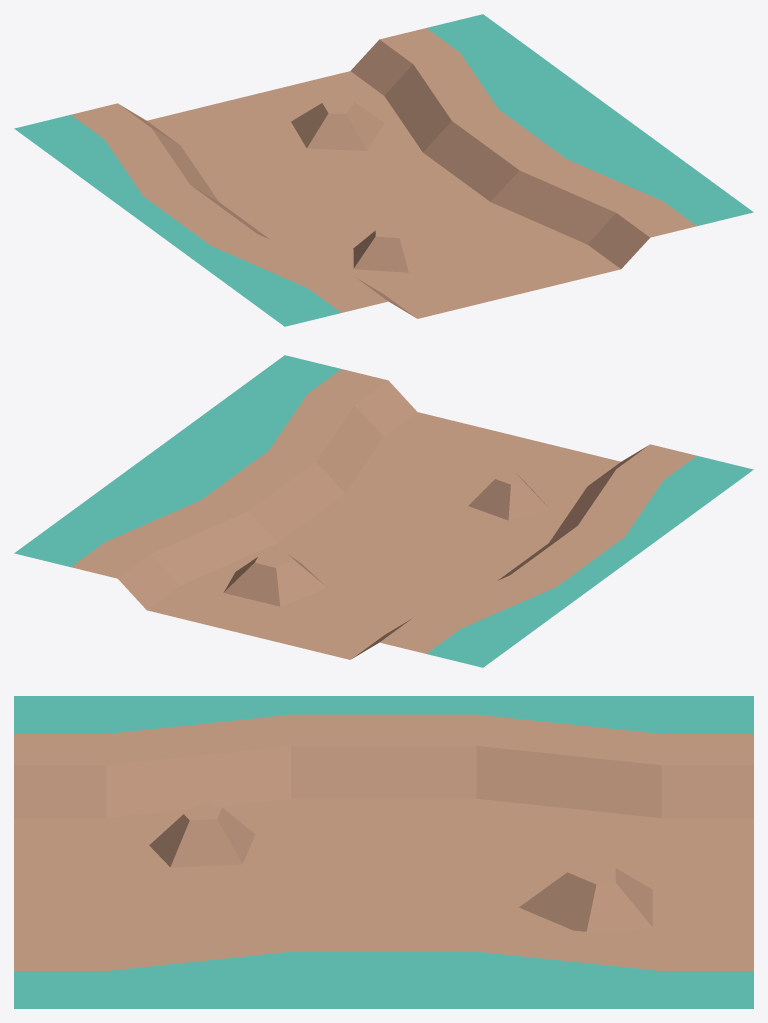
The model's file is ground_pathRocks.glb.
3 renders of one model, top to bottom at view 1: azimuth 30°, elevation 25°; view 2: azimuth 150°, elevation 25°; view 3: azimuth 270°, elevation 25°, orthographic. The views are drawn at different scales.
Parts seen in each view (by area): view 1: ground_pathRocks; view 2: ground_pathRocks; view 3: ground_pathRocks.
Part boxes in pixels (x1,y1,x2,y2): ground_pathRocks: [14, 14, 753, 326]; ground_pathRocks: [14, 355, 753, 667]; ground_pathRocks: [14, 696, 753, 1008].
Size of the model in its own units: 1 by 0.05 by 1.
